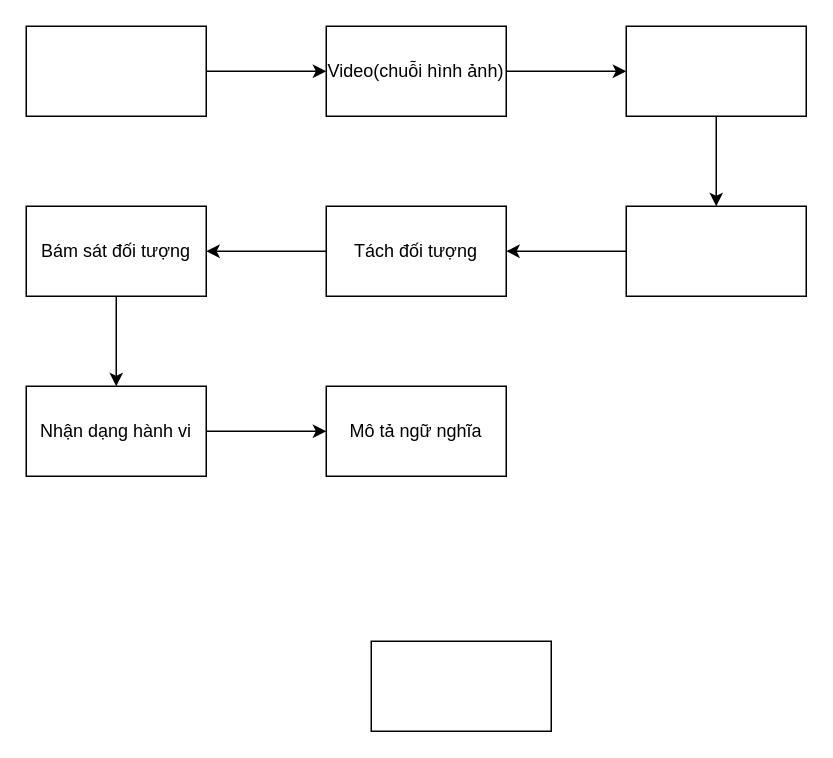
Some shapes in this 833 by 758 pixel diagram are drawn without their labels. The shapes that lost their labels are listed below. From the top down, each one's centre as x and y in pixels, then its label:
the point at 115,70: Camera
the point at 715,70: Tiền xử lý ảnh
the point at 715,250: Phát hiện đối tượng
